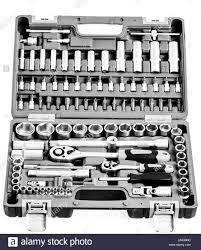wrench: (47, 144, 169, 162), (99, 159, 174, 172)
